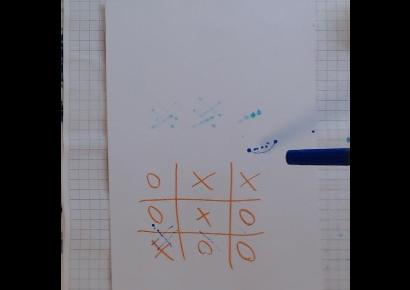O: (192, 237, 218, 261), (233, 239, 256, 264), (235, 206, 257, 228), (144, 204, 166, 226)
X: (188, 168, 216, 193), (146, 240, 175, 264), (236, 170, 262, 194), (192, 206, 214, 231)
grid: (133, 158, 268, 269)
